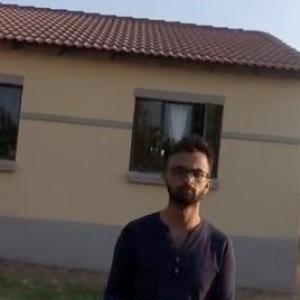follow: (98, 132, 240, 299)
